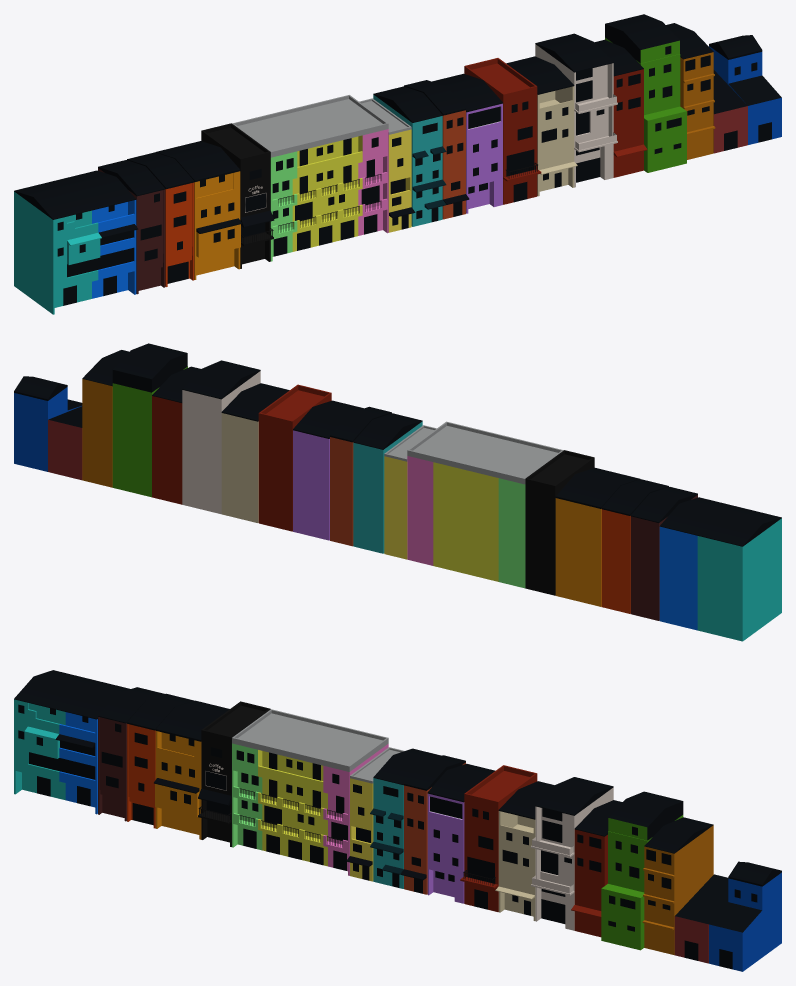
File: 深淵呼喚_建築_B05基隆_正濱漁港彩色屋.FBX
3 renders of one model, top to bottom at view 1: azimuth 30°, elevation 25°; view 2: azimuth 150°, elevation 25°; view 3: azimuth 330°, elevation 25°, orthographic.
Parts seen in each view (by area): view 1: Rectangle045, Box003, Rectangle084, Box002, Box011, Rectangle081, Rectangle030, Box033, Rectangle085, Rectangle063, Rectangle049, Box028 (+45 smaller); view 2: Box003, Box011, Rectangle045, Box022, Box008, Box027, Box019, Box017, Object002, Box021, Box013, Box002 (+26 smaller); view 3: Rectangle045, Box033, Rectangle084, Box011, Box002, Box029, Rectangle081, Rectangle085, Rectangle030, Rectangle063, Object004, Box022 (+44 smaller).
Boxes of the visible parts, x1,y1,x2,y2 form: Rectangle045: [232, 95, 388, 157]; Box003: [14, 191, 91, 314]; Rectangle084: [642, 54, 685, 172]; Box002: [14, 170, 136, 219]; Box011: [292, 135, 362, 251]; Rectangle081: [615, 69, 642, 177]; Rectangle030: [196, 171, 240, 257]; Box033: [709, 46, 781, 144]; Rectangle085: [685, 52, 712, 159]; Rectangle063: [505, 92, 535, 204]; Rectangle049: [414, 116, 441, 226]; Box028: [605, 14, 679, 62]; Box003: [697, 518, 781, 641]; Box011: [433, 462, 498, 581]; Rectangle045: [407, 421, 563, 484]; Box022: [182, 371, 260, 514]; Box008: [555, 498, 601, 606]; Box027: [112, 366, 187, 497]; Box019: [221, 413, 258, 522]; Box017: [293, 430, 329, 540]; Object002: [659, 526, 697, 630]; Box021: [258, 398, 331, 531]; Box013: [353, 421, 422, 553]; Box002: [659, 497, 781, 546]; Rectangle045: [232, 709, 388, 771]; Box033: [709, 872, 781, 971]; Rectangle084: [603, 831, 645, 949]; Box011: [258, 750, 327, 866]; Box002: [14, 670, 130, 719]; Box029: [644, 825, 713, 955]; Rectangle081: [576, 830, 603, 937]; Rectangle085: [645, 847, 672, 954]; Rectangle030: [155, 740, 199, 816]; Rectangle063: [465, 800, 496, 911]; Object004: [232, 743, 262, 850]; Box022: [535, 787, 613, 930].
Bounding box in the file's own units: 9659 × 1572 × 1000.
